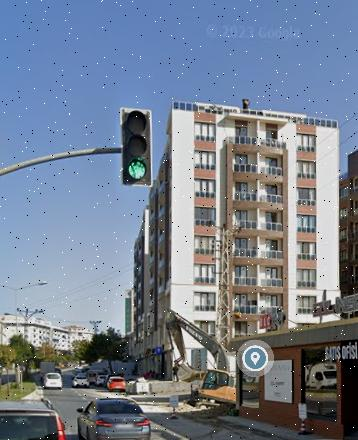greenlight: (122, 106, 154, 184)
